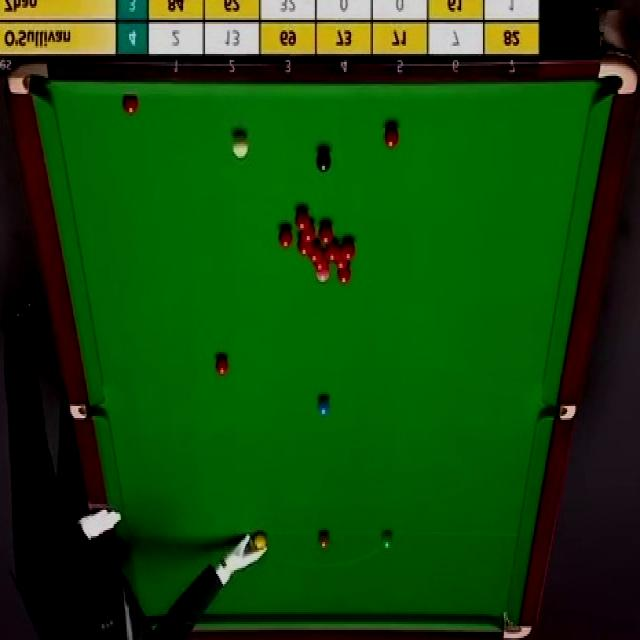pocket: (595, 55, 639, 100), (5, 55, 51, 97), (501, 608, 530, 640), (68, 402, 102, 422), (537, 405, 573, 420)
